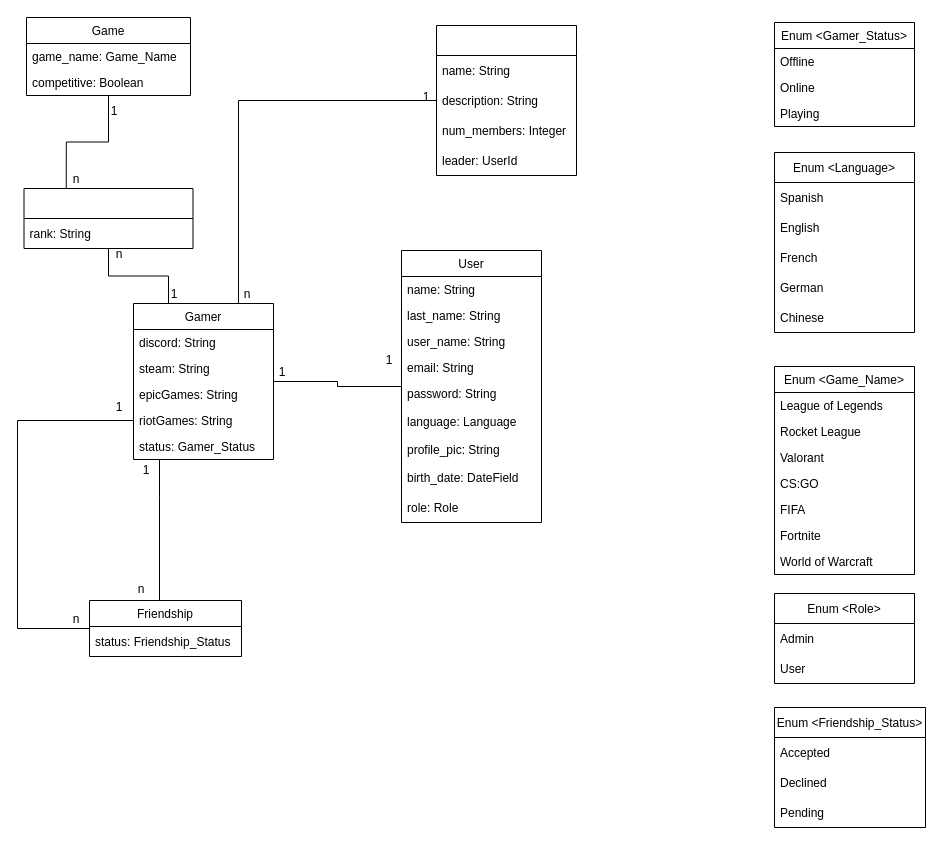
Some shapes in this 943 by 845 pixel diagram are drawn without their labels. Here are the shapes that lost their labels. From the top down, the box of each, then its label:
(436, 24, 576, 176): Clan
(23, 188, 193, 248): Gameship
